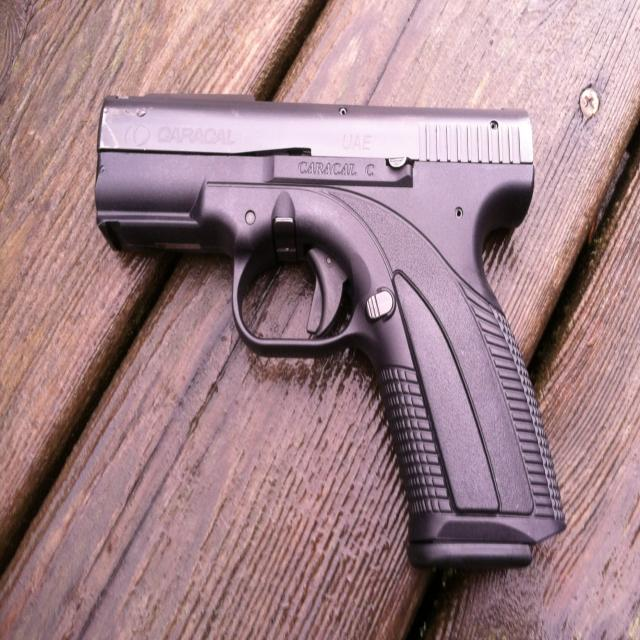Gun: (93, 84, 590, 586)
